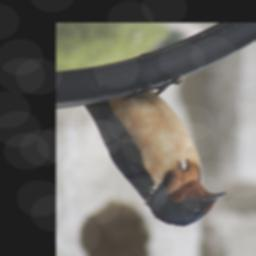Swallow: (81, 71, 228, 228)
